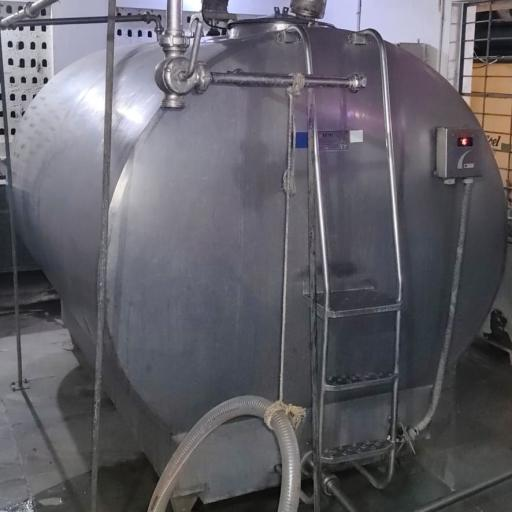silo: (2, 15, 511, 508)
